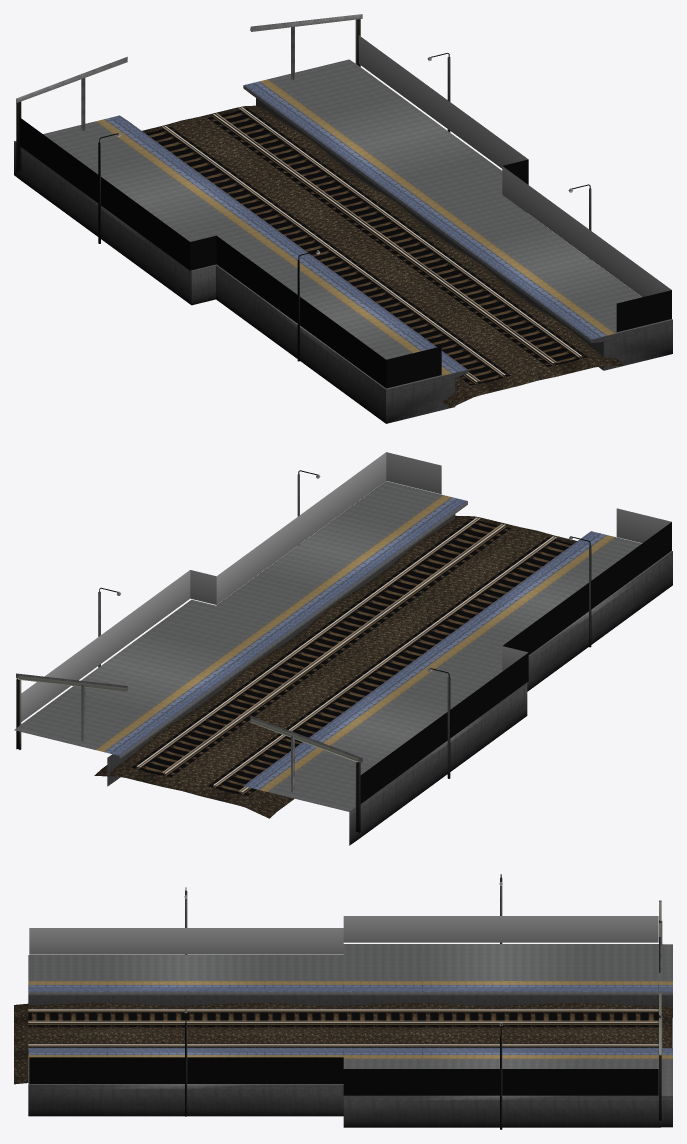
The model's file is KIN_2RAIL_TAIMEN8.glb.
3 renders of one model, top to bottom at view 1: azimuth 30°, elevation 25°; view 2: azimuth 150°, elevation 25°; view 3: azimuth 270°, elevation 25°, orthographic. The views are drawn at different scales.
Visible parts, largest first — view 1: obj9, obj6, obj10, obj11; view 2: obj9, obj6, obj10, obj11, obj7; view 3: obj9, obj11, obj10, obj6, obj7, obj13.
Part boxes in pixels (bbox=[...]): obj9: bbox=[14, 35, 672, 423]; obj6: bbox=[16, 14, 362, 172]; obj10: bbox=[162, 107, 579, 375]; obj11: bbox=[215, 113, 556, 382]; obj9: bbox=[14, 452, 672, 845]; obj6: bbox=[16, 673, 362, 832]; obj10: bbox=[139, 518, 556, 785]; obj11: bbox=[162, 523, 503, 792]; obj7: bbox=[98, 587, 450, 778]; obj9: bbox=[14, 916, 672, 1127]; obj11: bbox=[28, 1010, 658, 1045]; obj10: bbox=[28, 1020, 658, 1021]; obj6: bbox=[659, 900, 662, 1120]; obj7: bbox=[499, 874, 502, 1129]; obj13: bbox=[184, 887, 187, 1116].
Size of the model in its own units: 59.67 by 17.37 by 105.
Materials: 19 (16 with a texture image).
